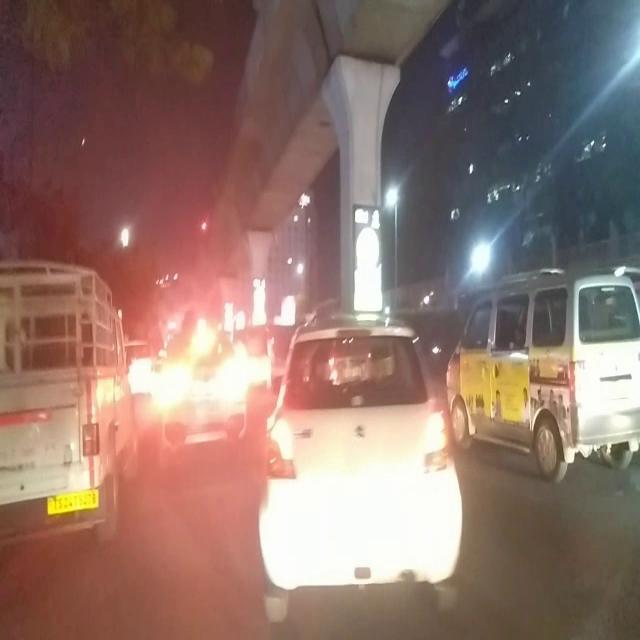car: (256, 319, 465, 623), (447, 279, 640, 482)
road: (0, 468, 640, 640)
van: (0, 248, 143, 574)
